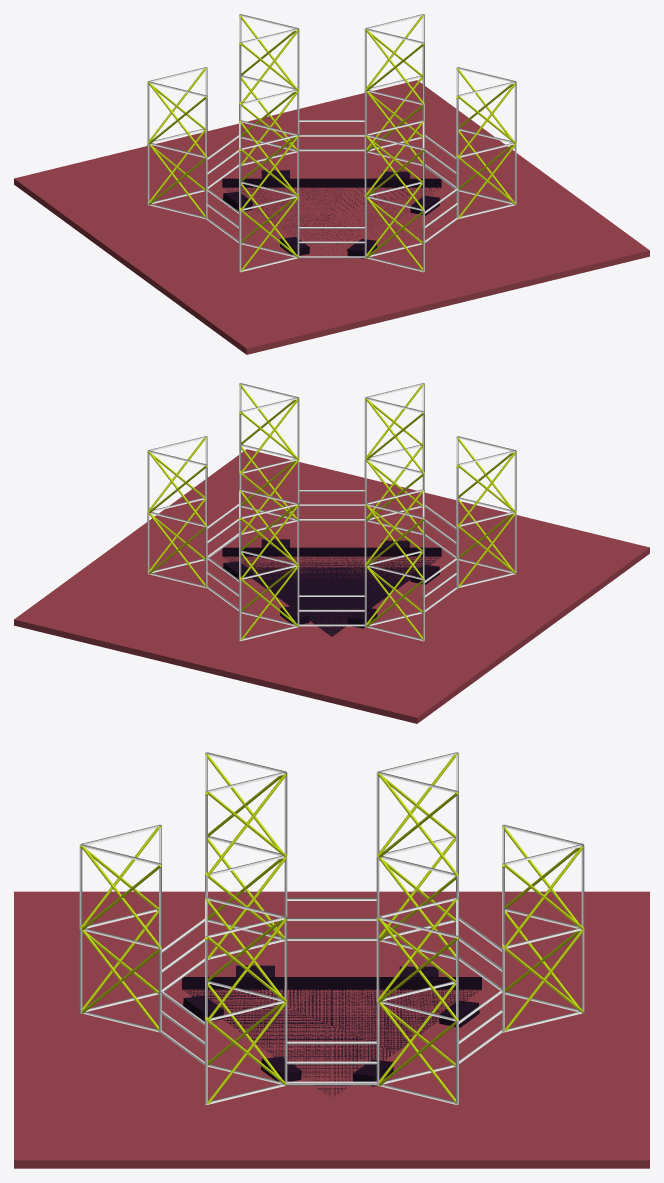
File: environment.glb
3 renders of one model, top to bottom at view 1: azimuth 30°, elevation 25°; view 2: azimuth 150°, elevation 25°; view 3: azimuth 270°, elevation 25°, orthographic. The views are drawn at different scales.
Visible parts, largest first — view 1: floor, base; view 2: floor, base; view 3: floor, base, Cube.005, Cube.002, Cube.007.
Boxes of the visible parts, x1,y1,x2,y2 form: floor: (14, 80, 649, 354); base: (222, 178, 441, 254); floor: (14, 449, 649, 723); base: (222, 547, 441, 636); floor: (14, 891, 649, 1168); base: (182, 977, 481, 1097); Cube.005: (399, 966, 438, 989); Cube.002: (261, 1056, 301, 1081); Cube.007: (353, 1059, 393, 1086).
Size of the model in its own units: 13.84 by 4.57 by 13.84.
